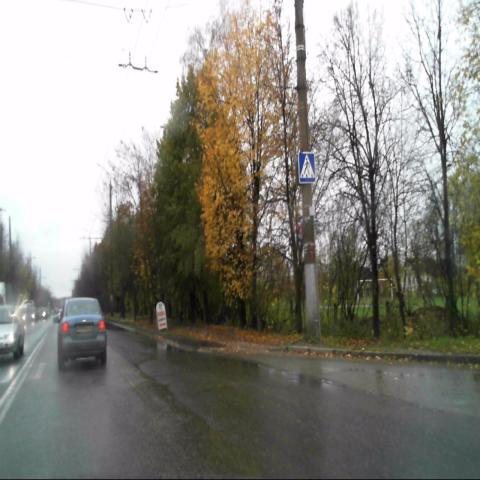5_19_1: (298, 151, 316, 182)
